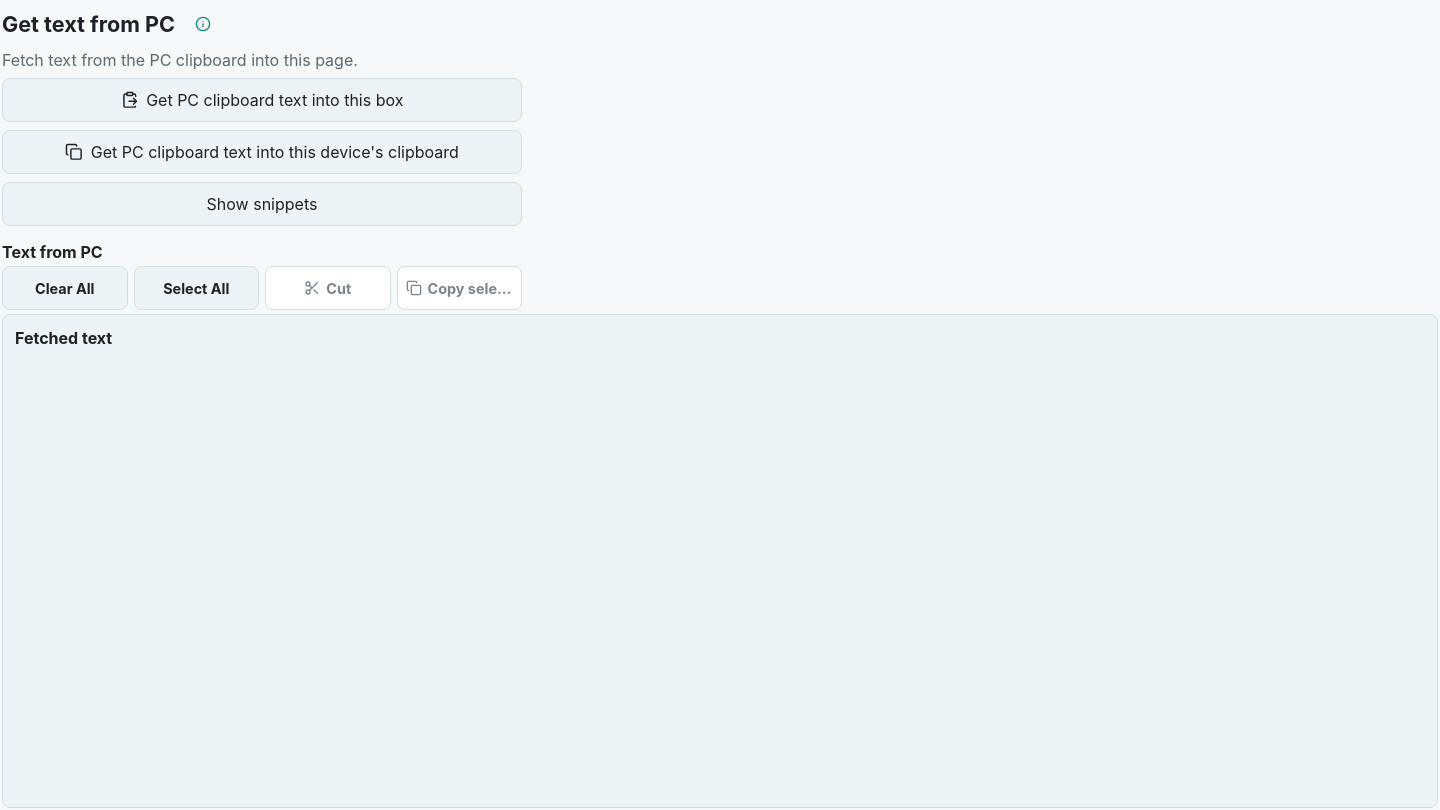
Test: ClipboardReadMode › clears and selects all fetched text
Click the button "Select All".
click(196, 288)  # box [134,266,259,310]
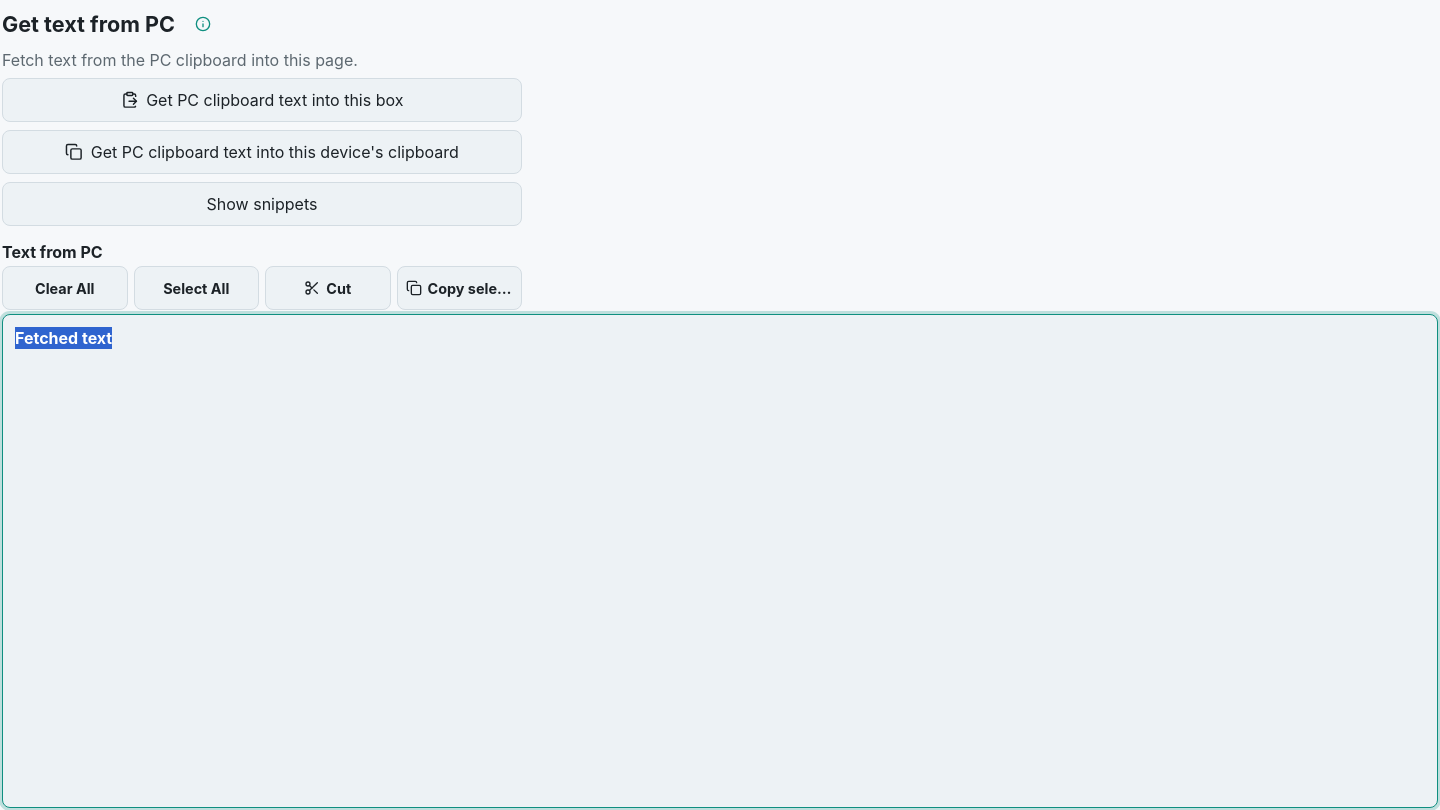
Click the button "Clear All".
click(65, 288)  # box [2,266,128,310]
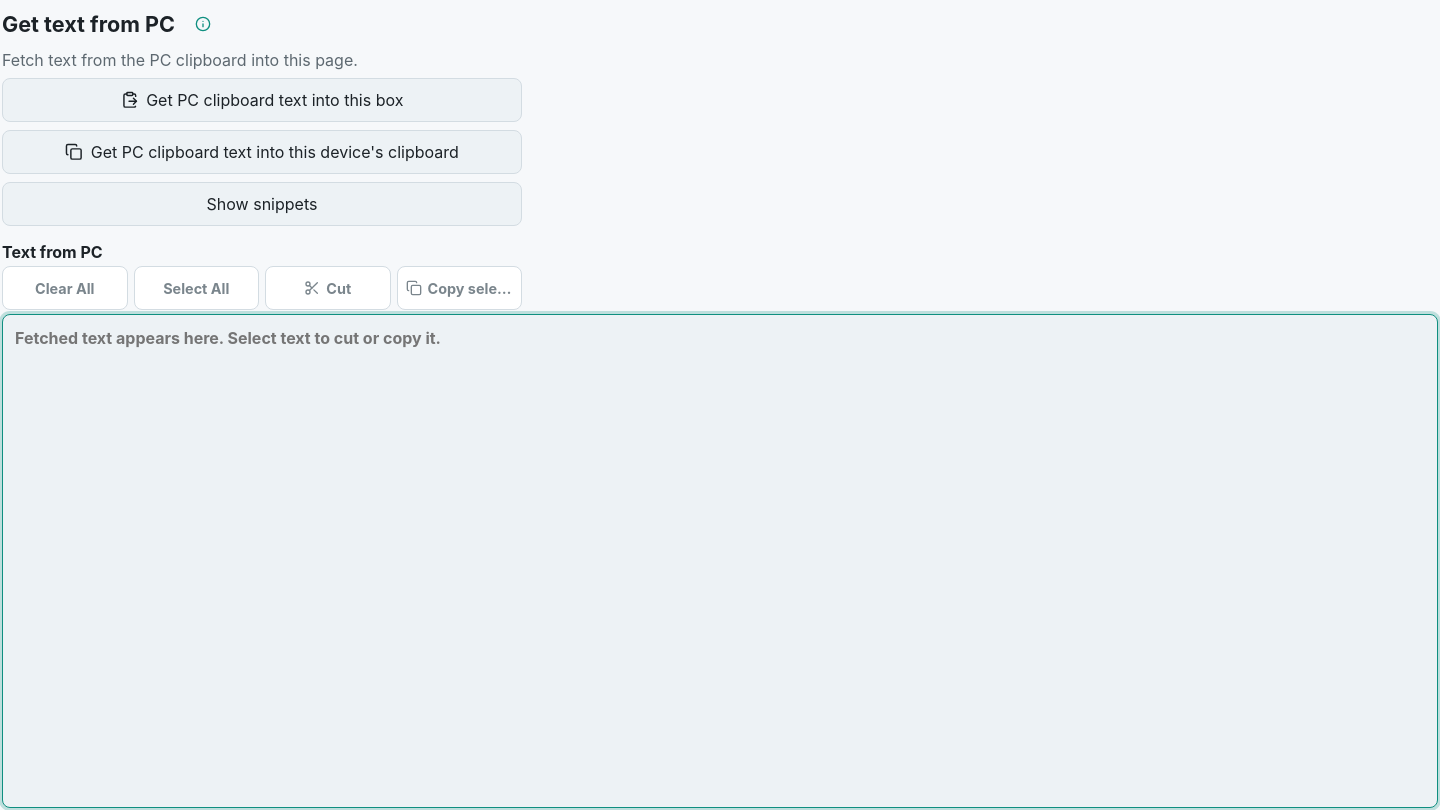
Expected: the text box labelled "Text from PC" is empty
Expected: the button "Clear All" is disabled, [2,266,128,310]
Expected: the button "Select All" is disabled, [134,266,259,310]
